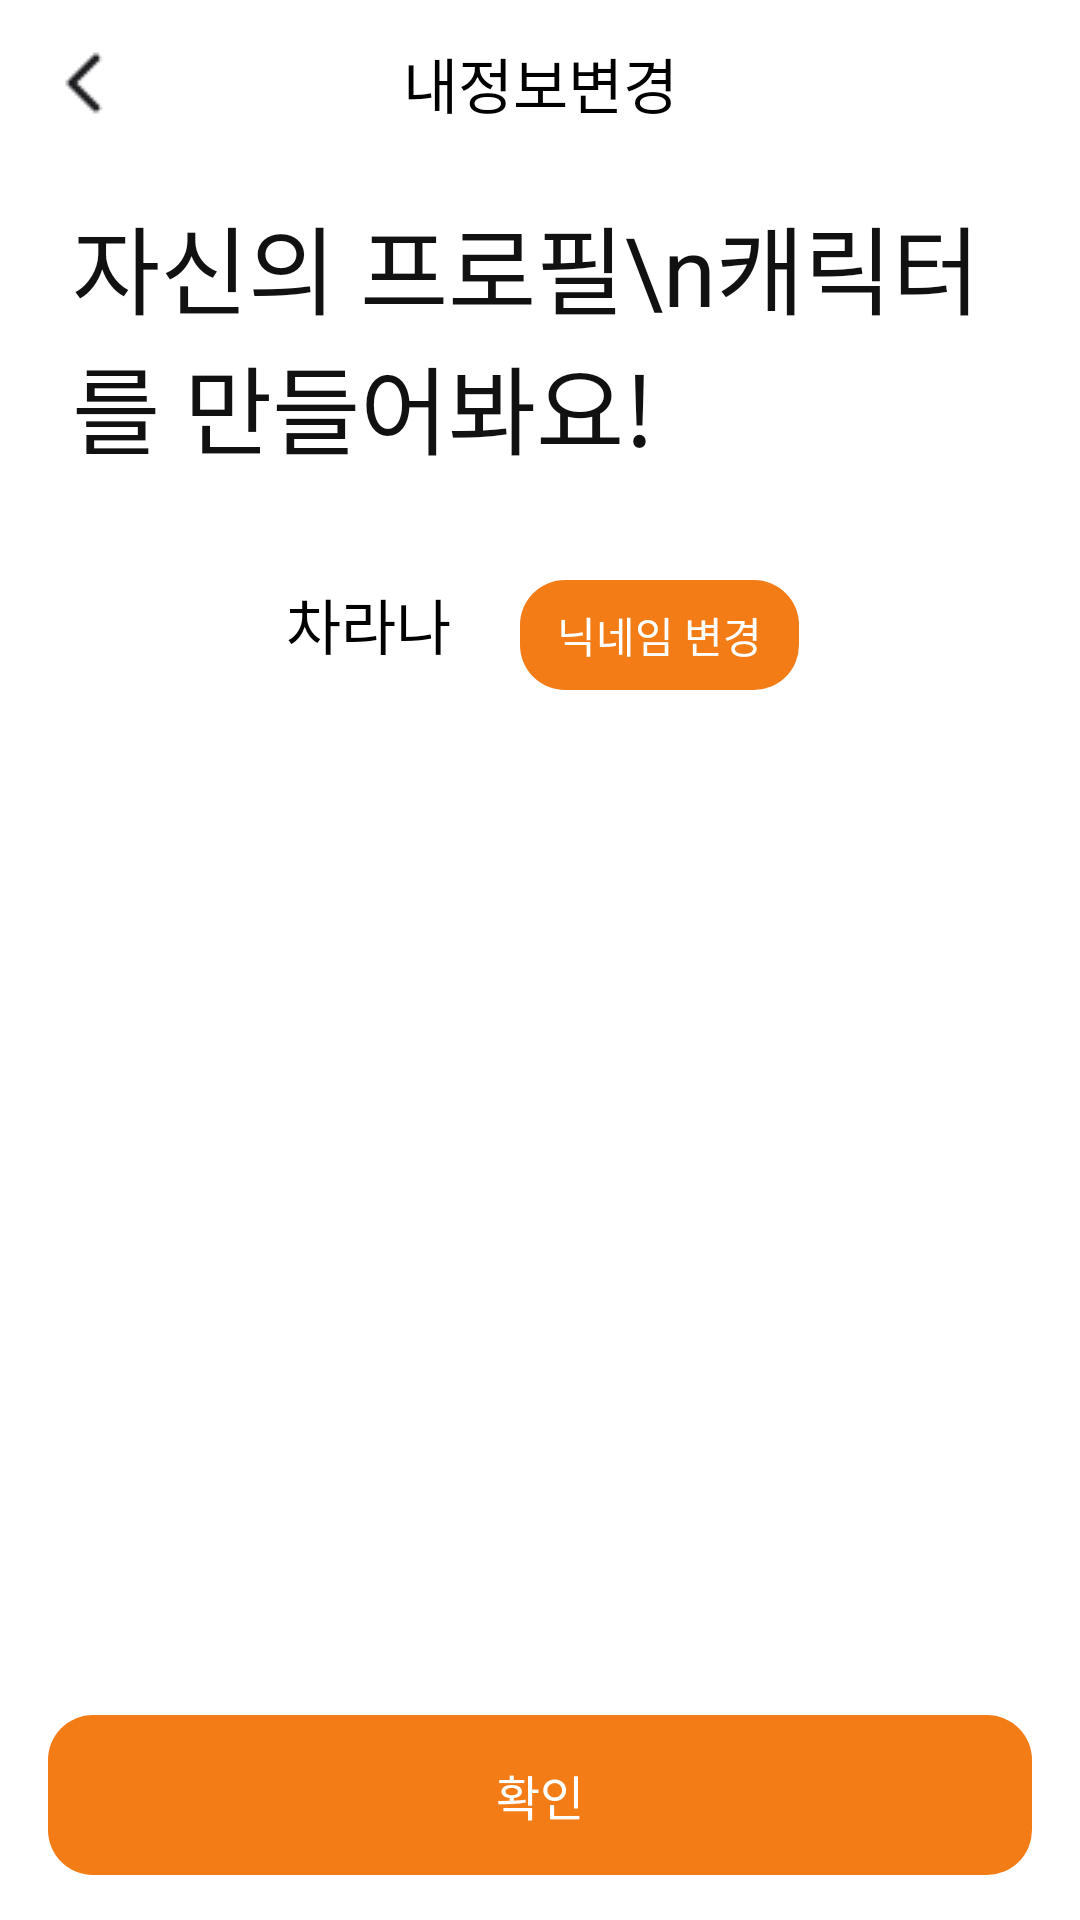

Icon click points for this 1080 × 1920 phone screenshot, format point (x, y):
arrow back: point (83, 83)
